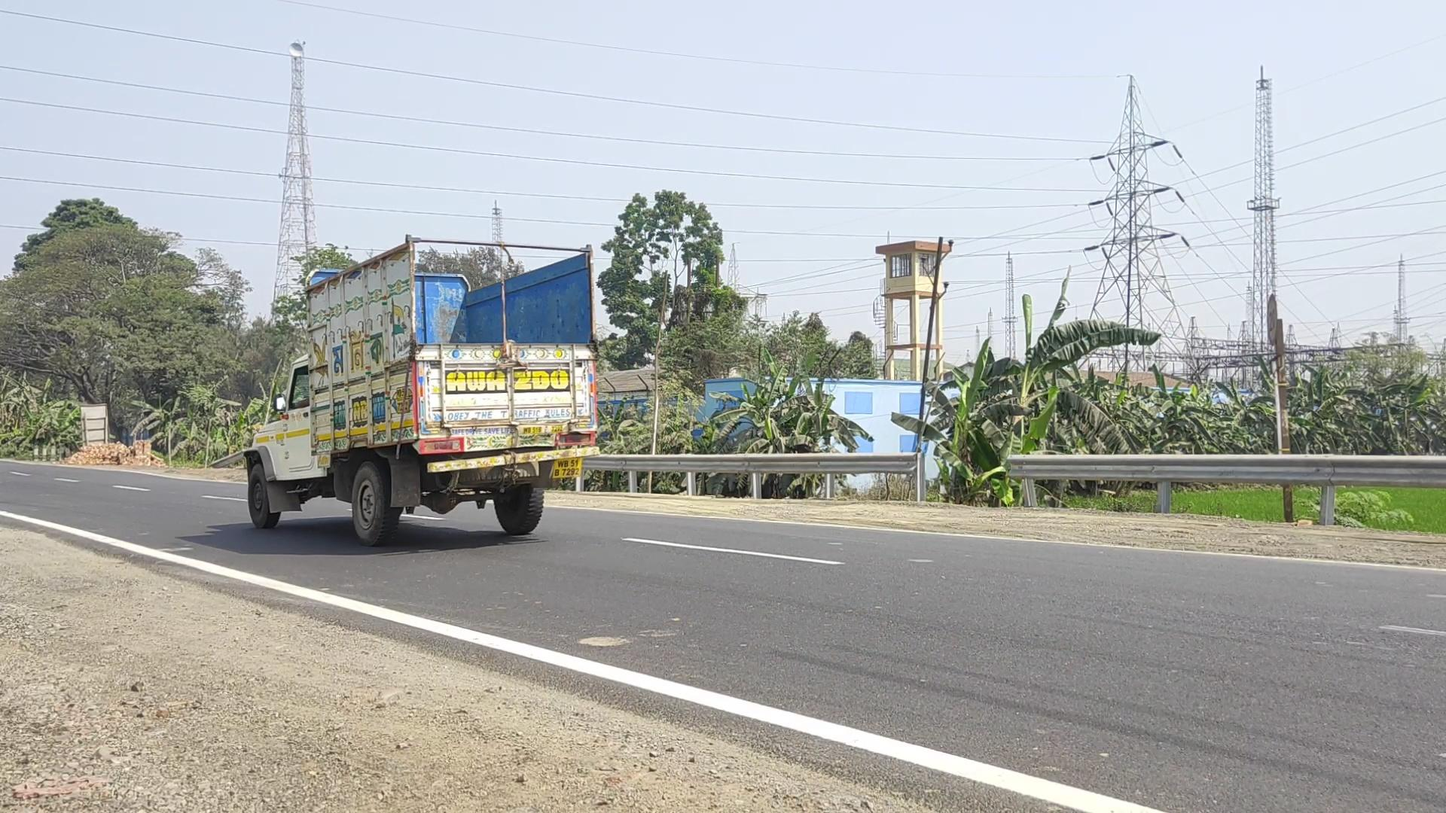van: (243, 234, 598, 546)
